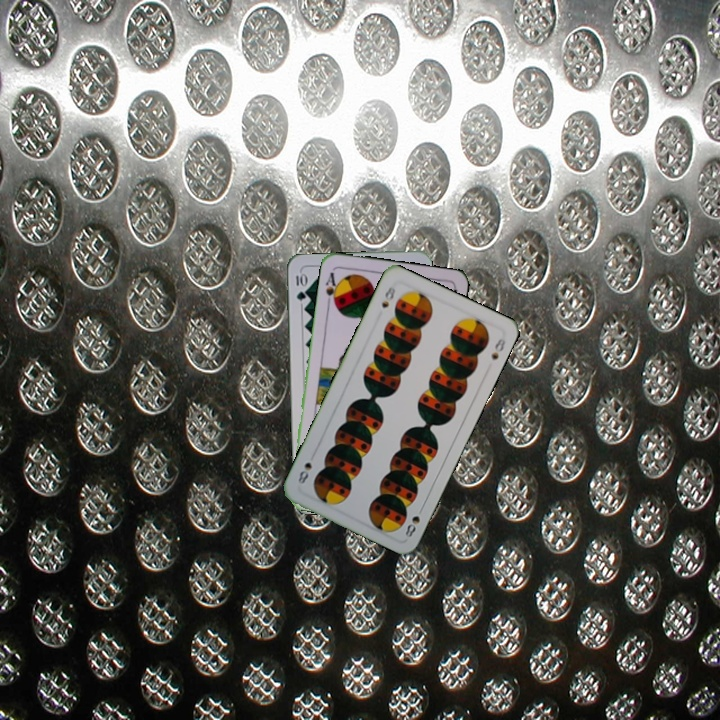G10: (292, 269, 308, 303)
S8: (401, 502, 426, 540), (377, 282, 398, 310)
SA: (321, 268, 342, 308)
